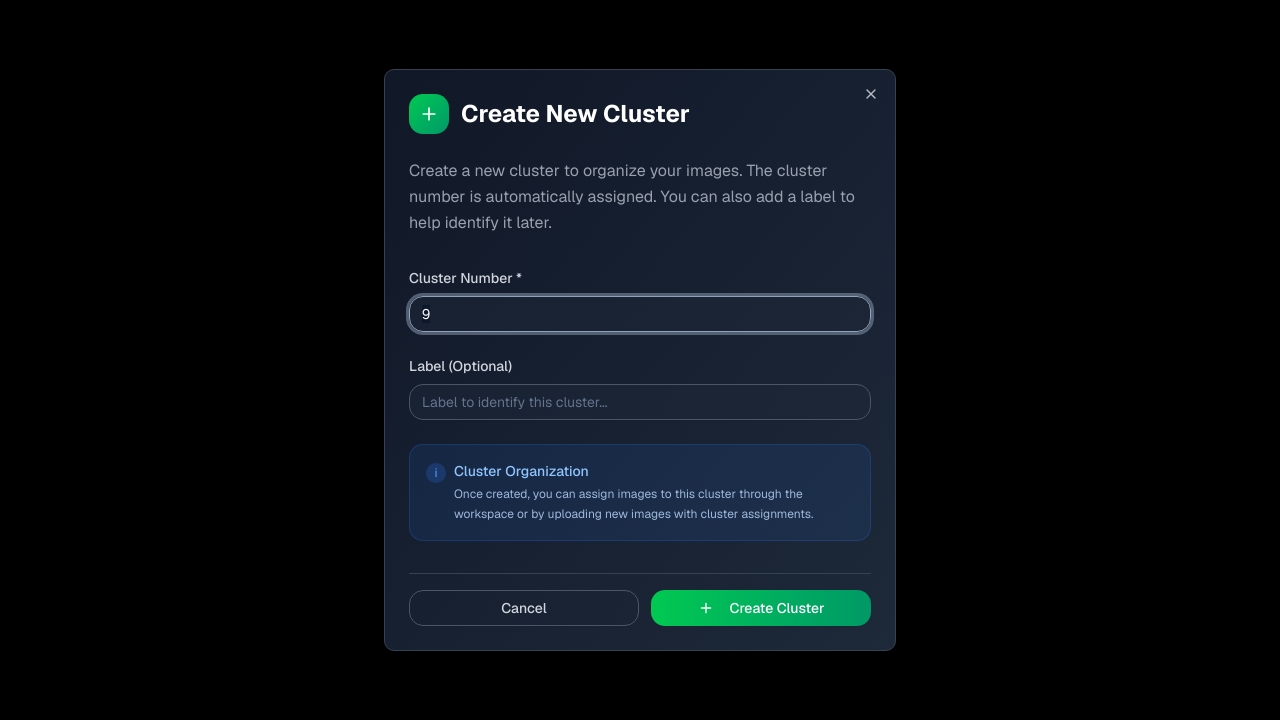
it: CreateClusterDialog - fuzzy search › shows suggestions for string label list and lets user select one
Type "Lab" into the field labelled "Label (Optional)". click: (640, 402)
box: [409,384,871,420]
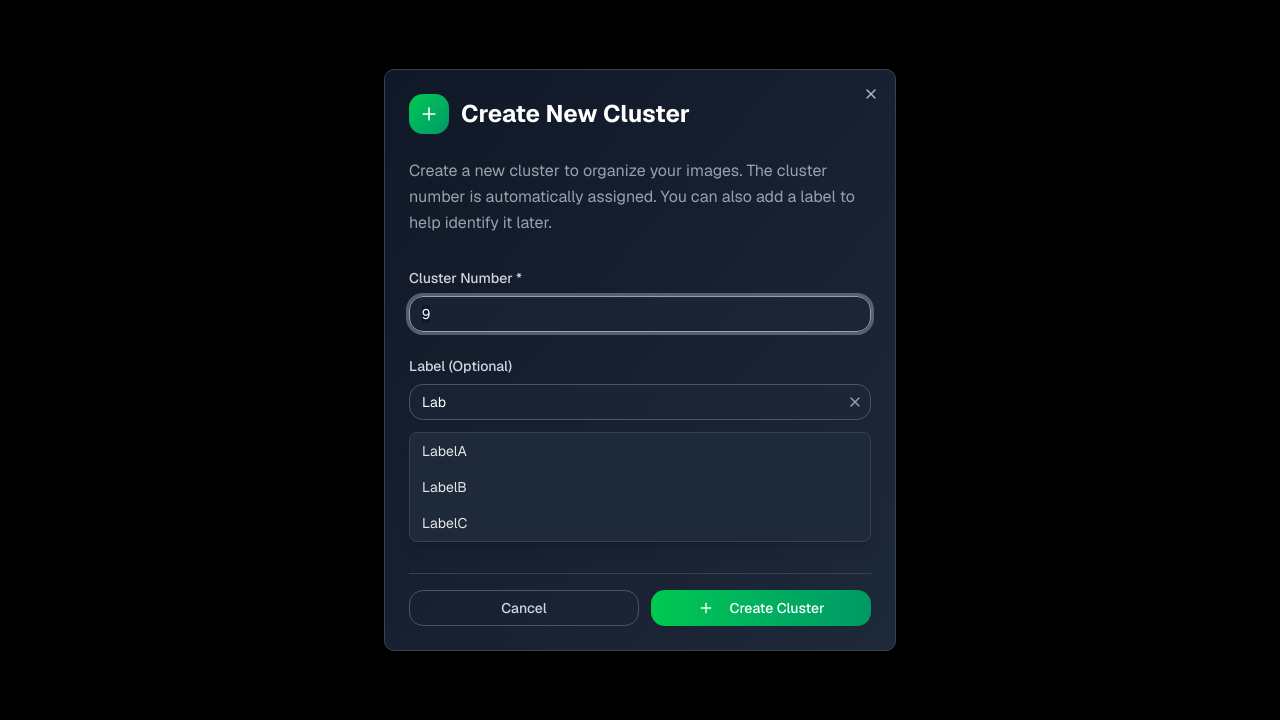
Now the text "LabelB" is shown
Click the text "LabelB". click: (444, 487)
box: [422,478,467,496]
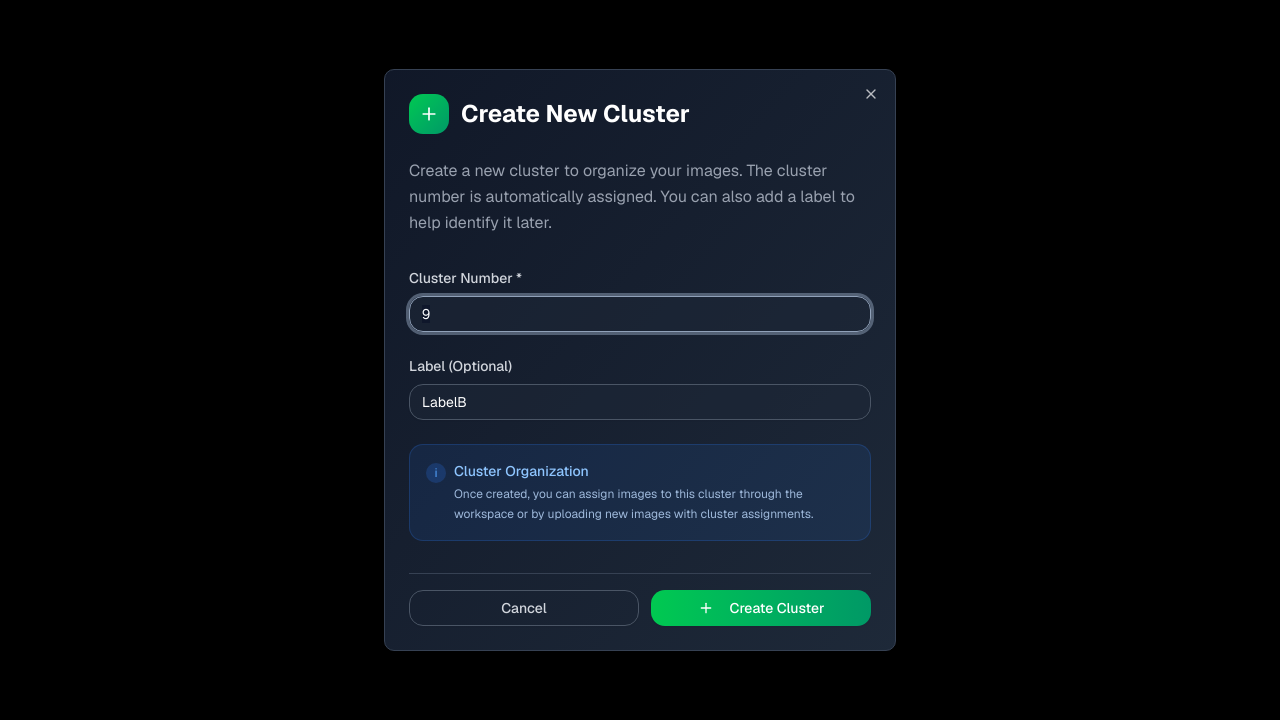
Now the field labelled "Label (Optional)" holds "LabelB", box [409,384,871,420]
